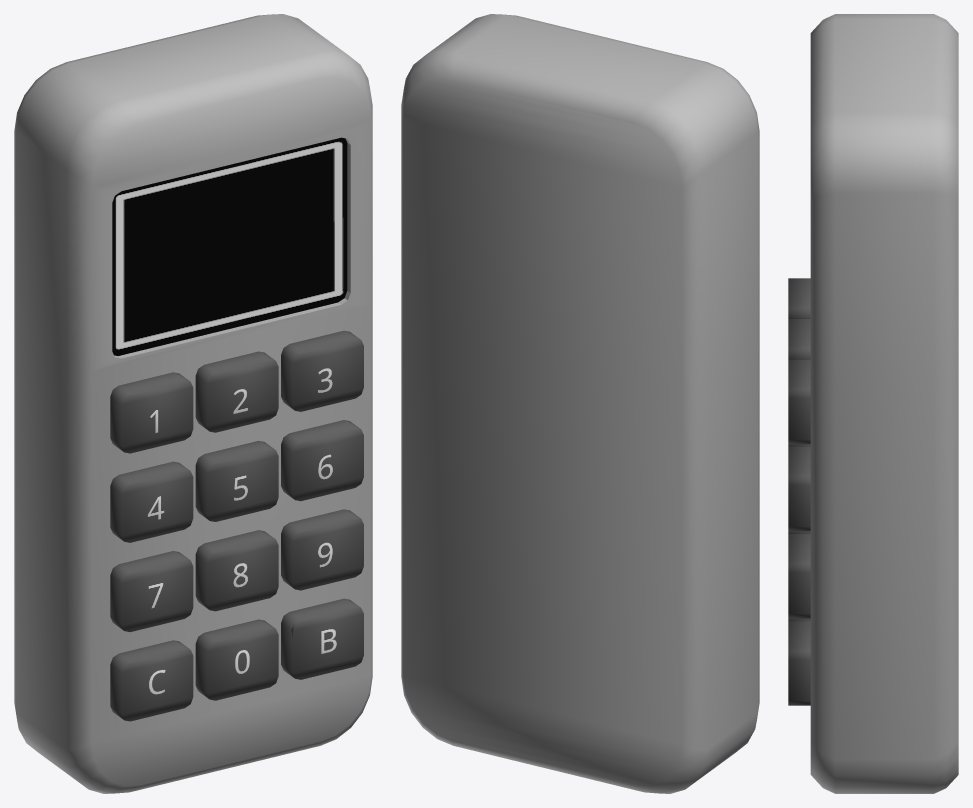
Rendered from Digicode3.fbx.
3 renders of one model, left to right at view 1: azimuth 30°, elevation 25°; view 2: azimuth 150°, elevation 25°; view 3: azimuth 270°, elevation 25°, orthographic. The views are drawn at different scales.
Visible parts, largest first — view 1: Digicode, B4, B2, B8, B1, B7, BC, B5, B0, B6, BB, B3 (+1 smaller); view 2: Digicode; view 3: Digicode, B3, B6, B9, BB, B2, B1.
Part boxes in pixels (x1,y1,x2,y2): Digicode: (14, 14, 372, 793); B4: (110, 461, 193, 542); B2: (195, 351, 278, 432); B8: (195, 530, 278, 611); B1: (110, 372, 193, 453); B7: (110, 551, 193, 632); BC: (110, 640, 193, 721); B5: (195, 440, 278, 521); B0: (195, 619, 278, 700); B6: (281, 420, 363, 501); BB: (281, 598, 363, 679); B3: (281, 330, 363, 411); Digicode: (401, 14, 759, 793); Digicode: (810, 14, 958, 793); B3: (788, 359, 810, 444); B6: (788, 446, 810, 531); B9: (788, 533, 810, 618); BB: (788, 621, 810, 705); B2: (788, 318, 810, 359); B1: (788, 278, 810, 318).
Bounding box in the file's own units: 0.1426 × 0.3101 × 0.0709.
Materials: 1 (1 with a texture image).
